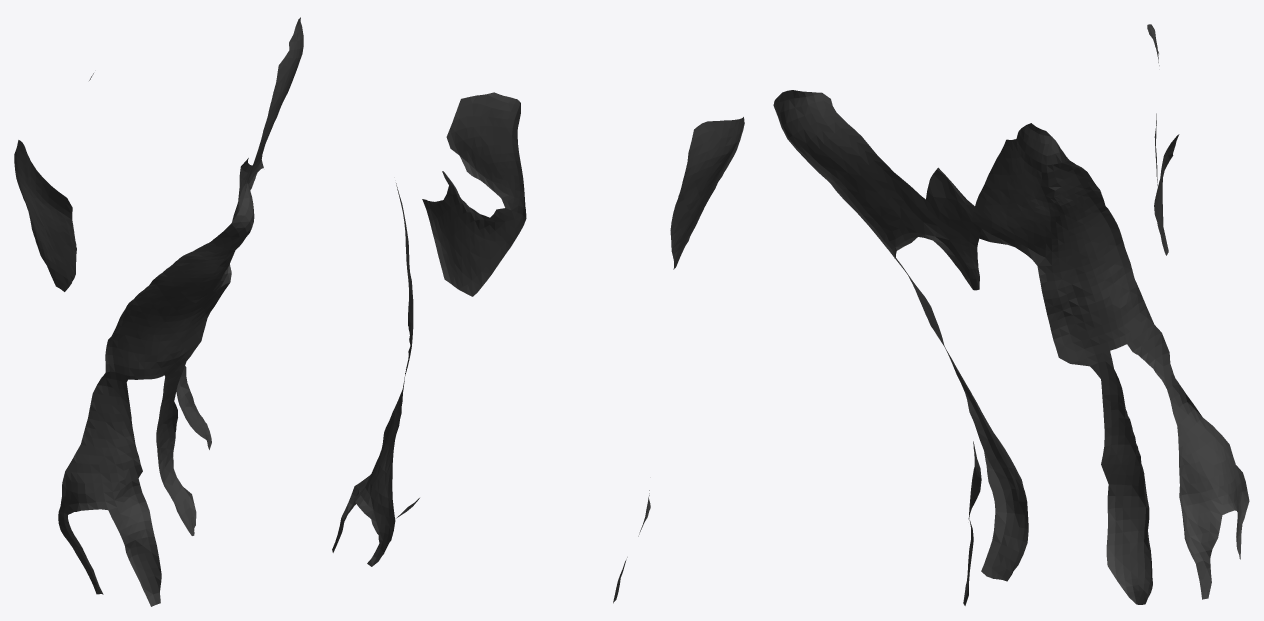
File: eq_dist_limb_Long_Pastern_Bone.glb
3 views of the same model, side by side, from view 1: azimuth 30°, elevation 25°; view 2: azimuth 150°, elevation 25°; view 3: azimuth 270°, elevation 25° (orthographic). The views are drawn at different scales.
Visible parts, largest first — view 1: eq_dist_limb_Long_Pastern_Bone; view 2: eq_dist_limb_Long_Pastern_Bone; view 3: eq_dist_limb_Long_Pastern_Bone.
Boxes of the visible parts, x1,y1,x2,y2 form: eq_dist_limb_Long_Pastern_Bone: (14,17,303,606); eq_dist_limb_Long_Pastern_Bone: (332,92,744,603); eq_dist_limb_Long_Pastern_Bone: (773,24,1249,605).
Bounding box in the file's own units: 0.00911 × 0.0146 × 0.0108.
1 material, 1 textured.
